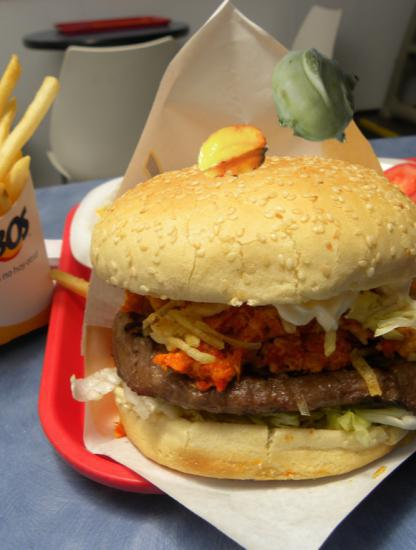Carambula: (195, 116, 269, 190)
Kohlrabi: (262, 43, 372, 153)
